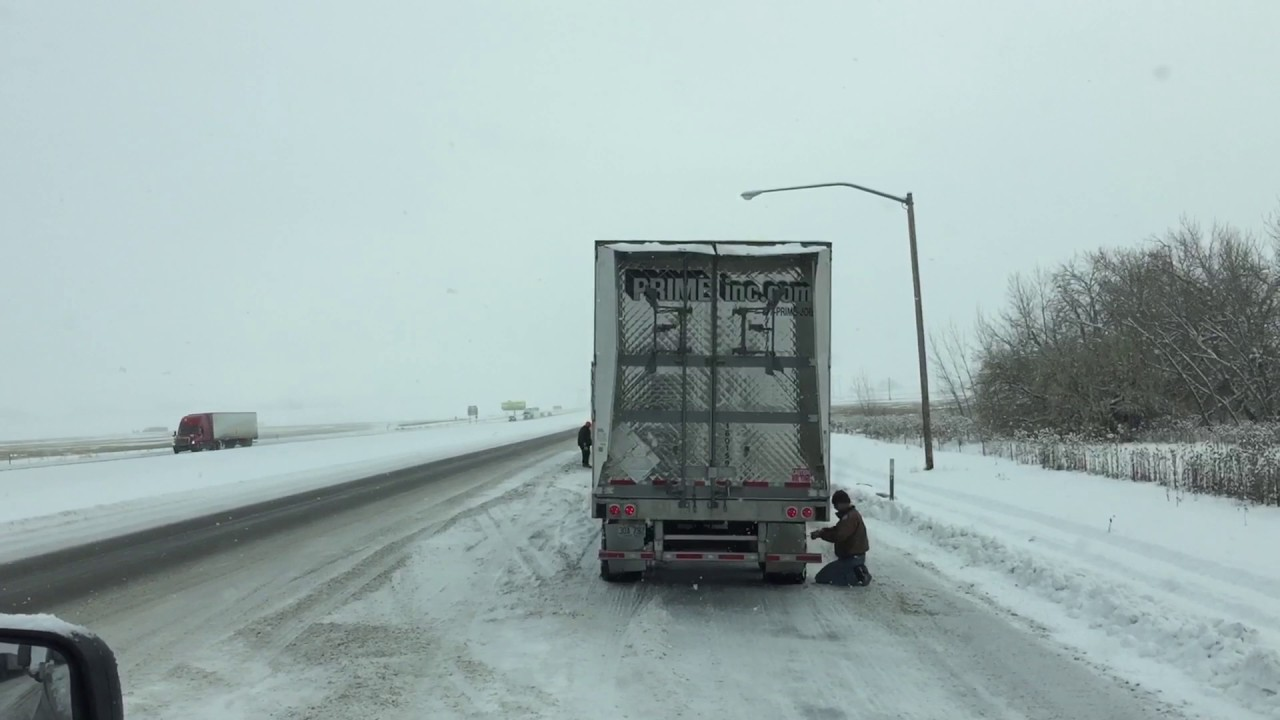person: (820, 488, 873, 595)
truck: (591, 235, 834, 585), (169, 411, 262, 454)
